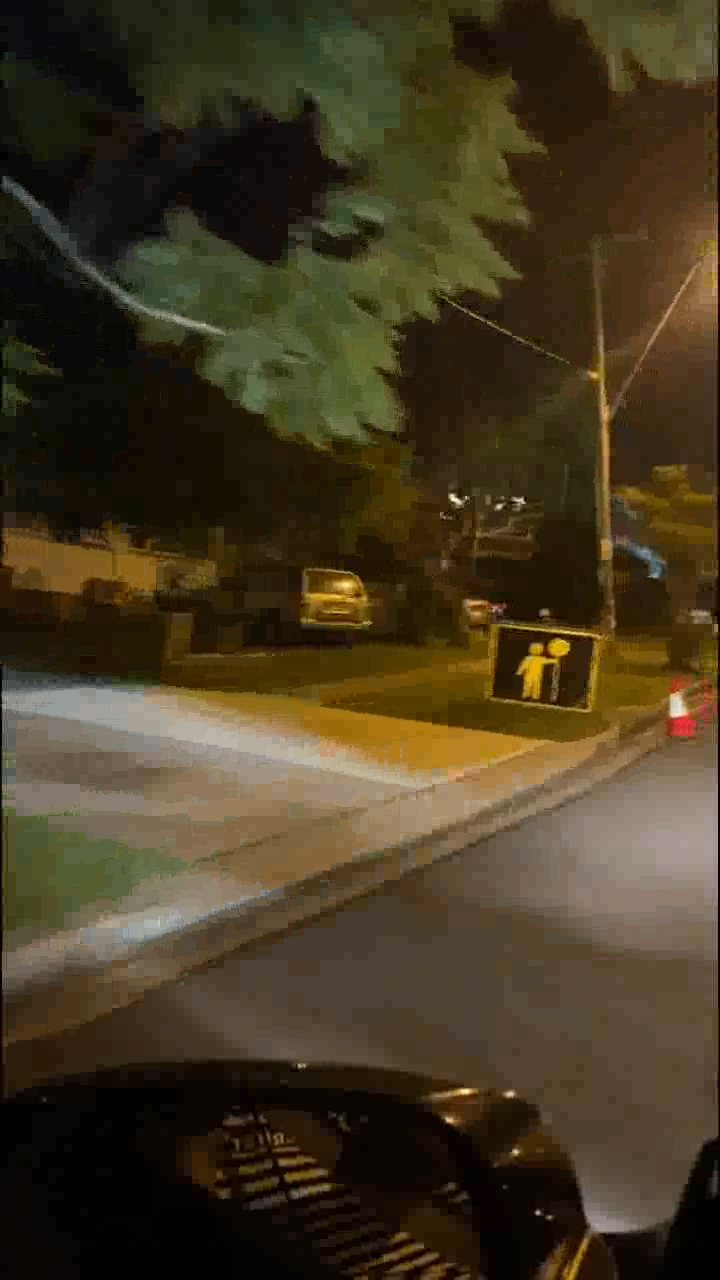prepare to stop board: (491, 625, 597, 707)
road cone: (667, 677, 702, 735)
